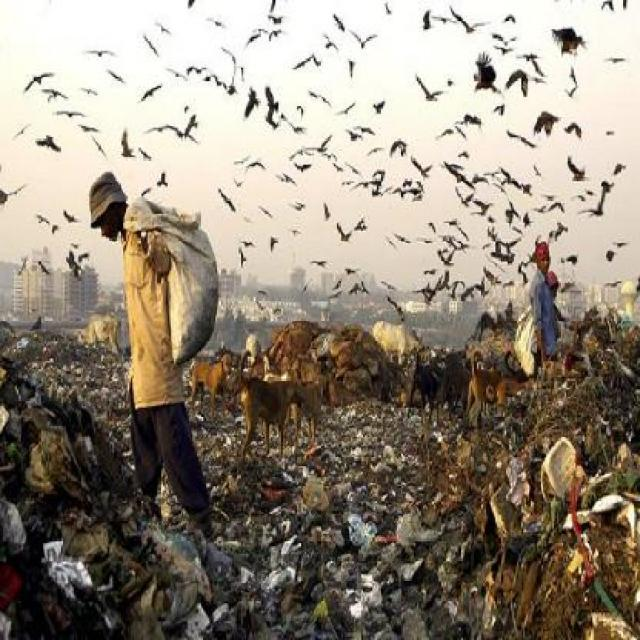garbage: (383, 419, 640, 636), (209, 469, 438, 618), (5, 340, 118, 638)
